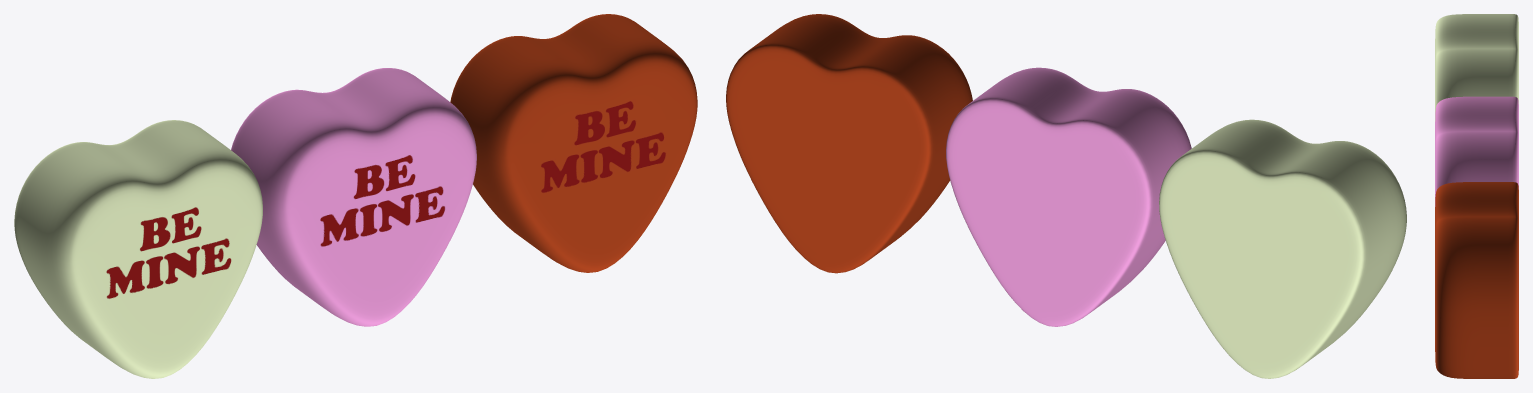
File: 12186_Candy_v1_L3.obj
3 renders of one model, left to right at view 1: azimuth 30°, elevation 25°; view 2: azimuth 150°, elevation 25°; view 3: azimuth 270°, elevation 25°, orthographic. The views are drawn at different scales.
Visible parts, largest first — view 1: 12186_Candy_01, 12186_Candy_03, 12186_Candy_02; view 2: 12186_Candy_01, 12186_Candy_03, 12186_Candy_02; view 3: 12186_Candy_03, 12186_Candy_02, 12186_Candy_01.
Boxes of the visible parts, <box> form: 12186_Candy_01: <box>14,120,262,378</box>; 12186_Candy_03: <box>450,14,697,272</box>; 12186_Candy_02: <box>231,68,476,326</box>; 12186_Candy_01: <box>1159,119,1406,378</box>; 12186_Candy_03: <box>726,14,972,273</box>; 12186_Candy_02: <box>946,67,1191,326</box>; 12186_Candy_03: <box>1435,182,1518,378</box>; 12186_Candy_02: <box>1435,96,1518,206</box>; 12186_Candy_01: <box>1435,14,1518,121</box>.
Bounding box in the file's own units: 6.01 × 1.94 × 0.859.
